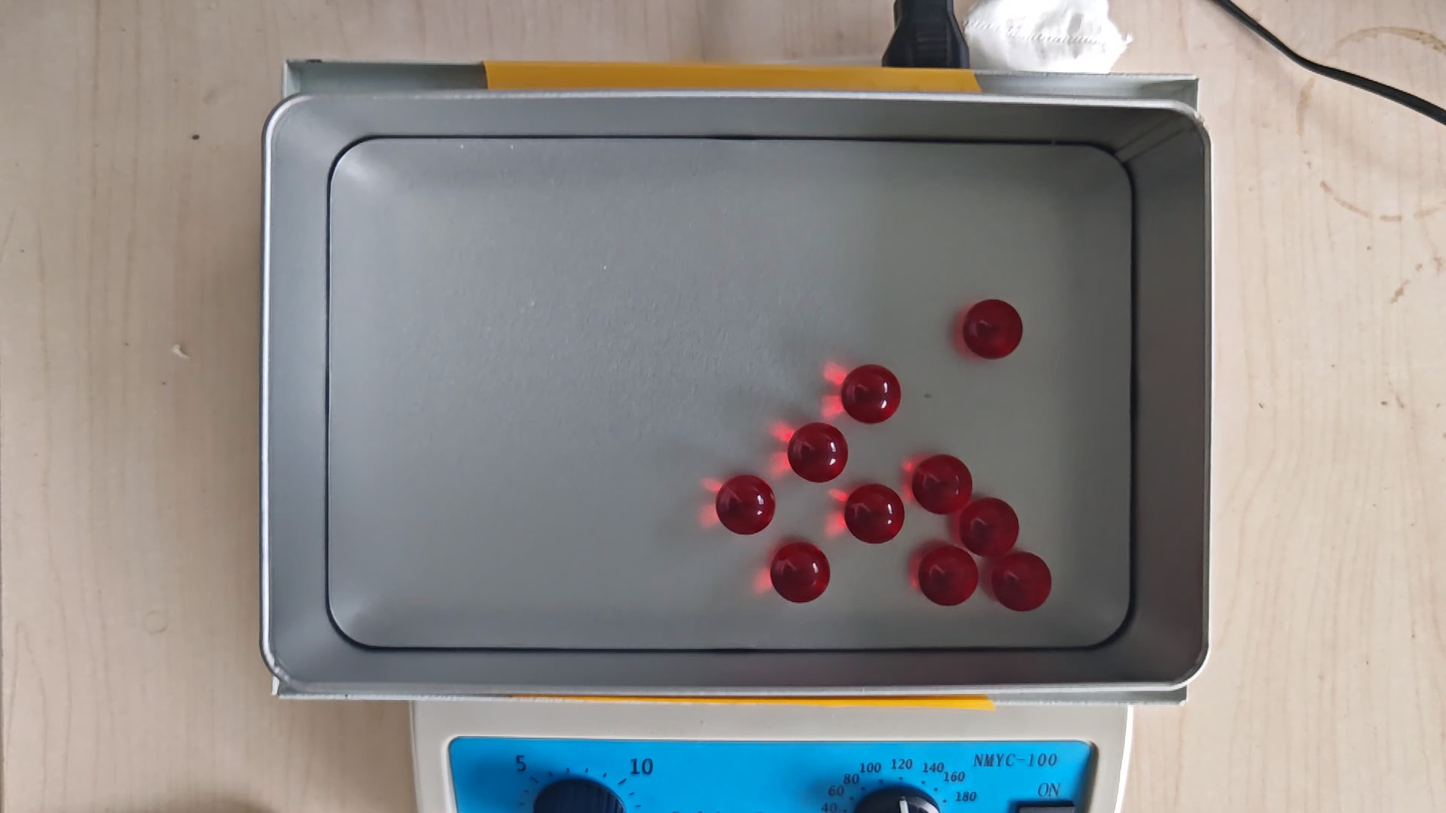ball: (845, 483, 906, 544), (842, 363, 902, 425), (788, 422, 848, 484), (716, 474, 776, 536), (771, 542, 831, 604), (912, 454, 972, 515), (993, 551, 1052, 613), (964, 298, 1023, 360), (919, 545, 978, 605), (961, 497, 1020, 556)
container: (327, 138, 1133, 650)
